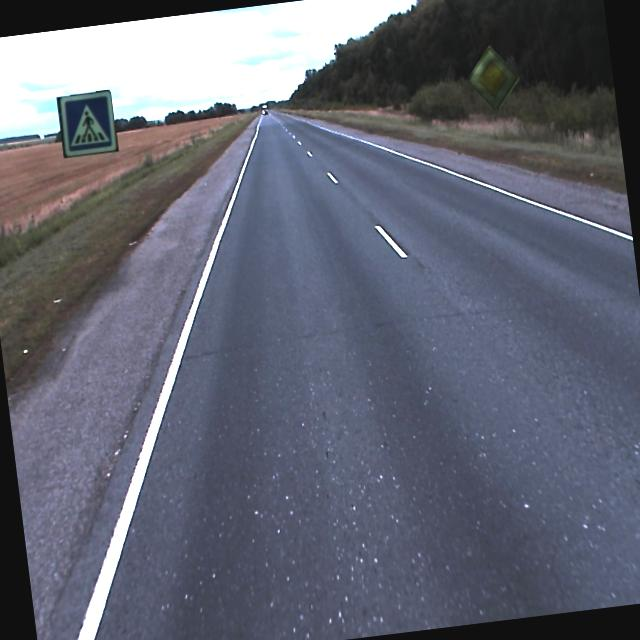road: (49, 109, 640, 640)
